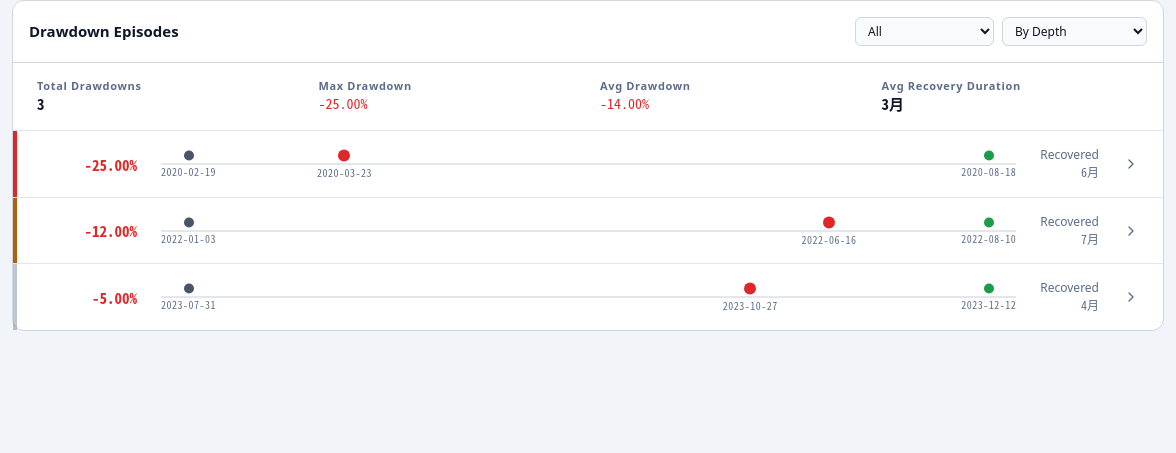
it: DrawdownEpisodes › 展开行显示详情
This screenshot has width=1176, height=453.
Click the button "-25.00% 2020-02-19 2020-03-23 2020-08-18 Recovered 6月" at (588, 164), box left=13, top=131, right=1163, bottom=197
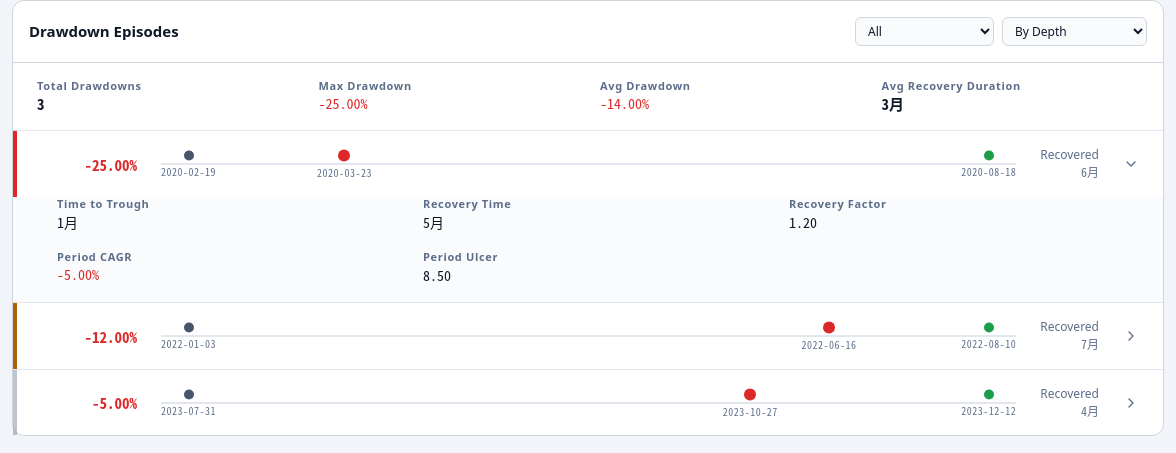
Expected: the text "Time to Trough" is shown, left=57, top=196, right=149, bottom=211
Expected: the text "Recovery Time" is shown, left=423, top=196, right=512, bottom=211
Expected: the text "Recovery Factor" is shown, left=789, top=196, right=887, bottom=211
